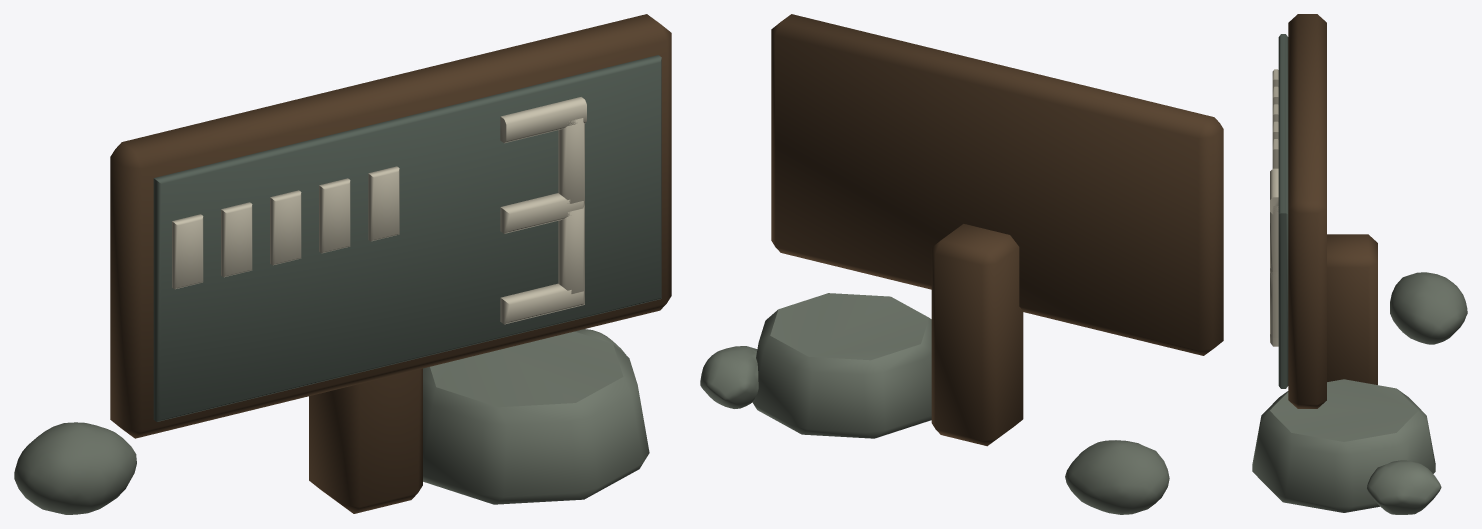
The model's file is bench_sign_a.glb.
The picture shows the model from 3 angles, left to right: view 1: azimuth 30°, elevation 25°; view 2: azimuth 150°, elevation 25°; view 3: azimuth 270°, elevation 25°; orthographic projection. The views are drawn at different scales.
Visible parts, largest first — view 1: Surface; view 2: Surface; view 3: Surface.
Part boxes in pixels (<box>): Surface: <box>14,14,671,514</box>; Surface: <box>700,14,1223,514</box>; Surface: <box>1252,14,1467,514</box>.
Size of the model in its own units: 2.03 by 1.43 by 0.8877.
